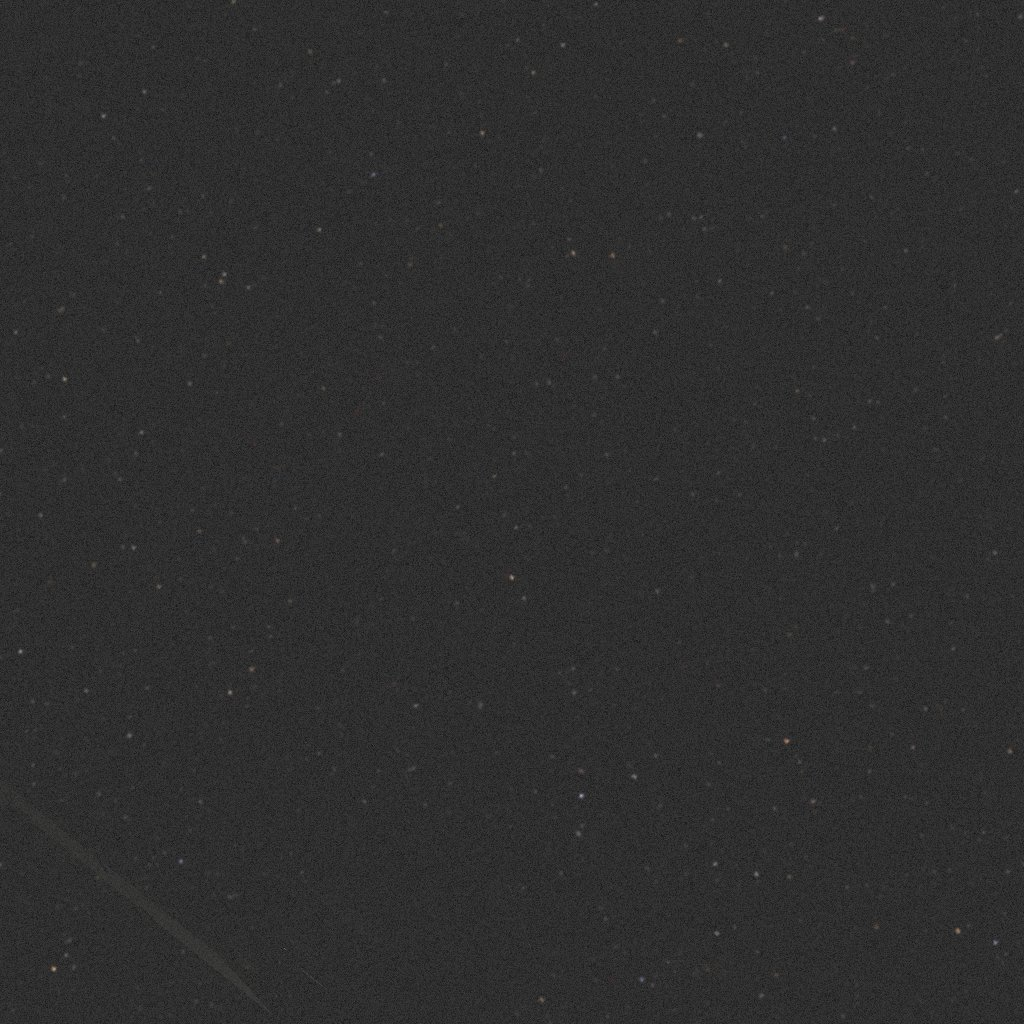earth_observation_sat_1: (0, 776, 541, 1024)
